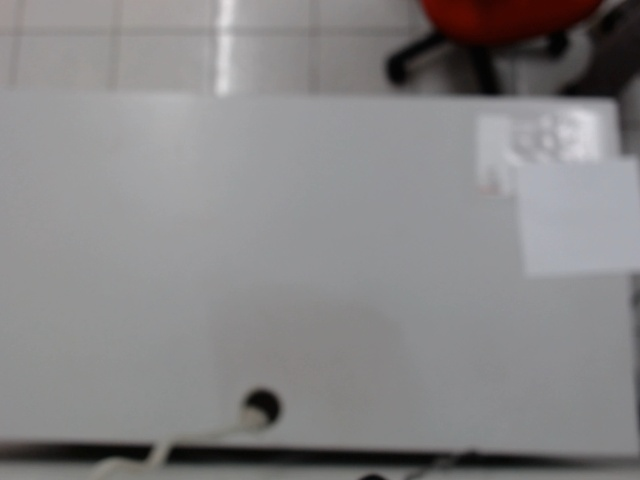divisor: (501, 147, 640, 286)
